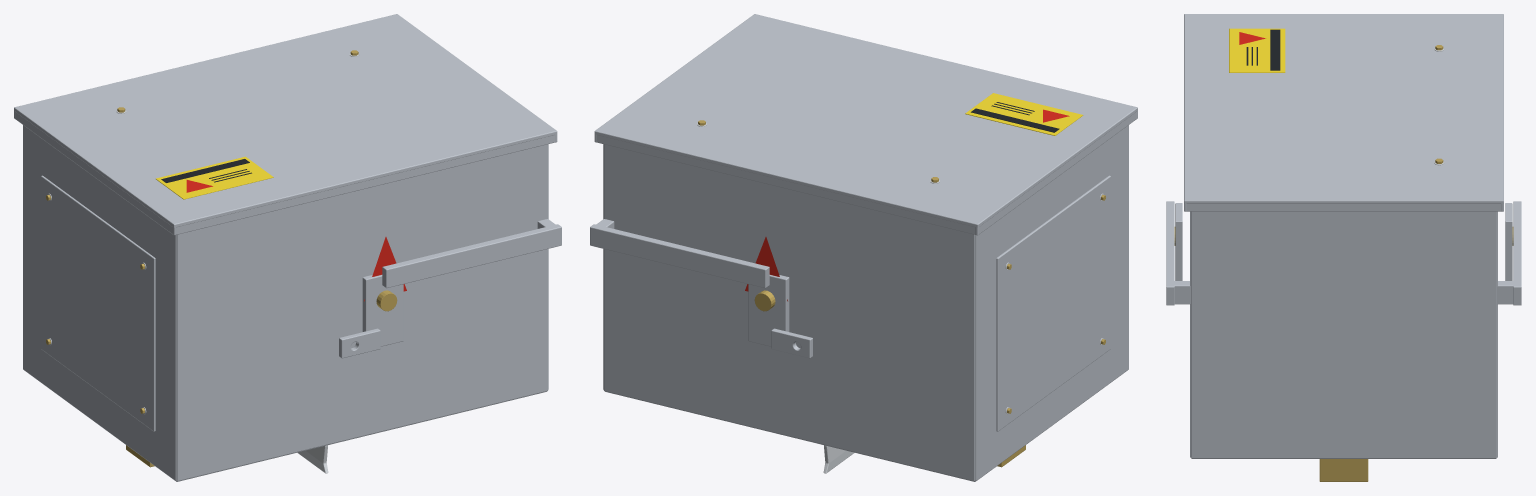
The model's file is tap-off-double-bottom.glb.
The picture shows the model from 3 angles, left to right: view 1: azimuth 30°, elevation 25°; view 2: azimuth 150°, elevation 25°; view 3: azimuth 270°, elevation 25°; orthographic projection.
Parts seen in each view (by area): view 1: Side sheet, Lid sheet, Gland plate, End sheet, Long lever, Lid long return, Pivot plate, Yellow danger label, Lid end return, Lock tab; view 2: Side sheet.001, Lid sheet, Gland plate, End sheet, Long lever.001, Lid long return.001, Pivot plate.001, Yellow danger label, Lid end return, Lock tab.001; view 3: End sheet.001, Lid sheet, Lid end return.001, Yellow danger label, Earth return.001, Long lever, Long lever.001, Pivot plate, Pivot plate.001, Black warning header, Side sheet.001, Side sheet (+2 smaller).
Part boxes in pixels (x1,y1,x2,y2): Side sheet: (176, 144, 547, 481); Lid sheet: (14, 14, 557, 227); Gland plate: (41, 175, 155, 431); End sheet: (23, 125, 176, 480); Long lever: (382, 224, 561, 288); Lid long return: (172, 135, 554, 234); Pivot plate: (362, 275, 403, 346); Yellow danger label: (156, 156, 273, 199); Lid end return: (15, 112, 176, 235); Lock tab: (339, 328, 380, 358); Side sheet.001: (604, 144, 975, 481); Lid sheet: (594, 14, 1137, 227); Gland plate: (996, 175, 1110, 431); End sheet: (975, 125, 1128, 480); Long lever.001: (590, 224, 769, 288); Lid long return.001: (597, 135, 979, 234); Pivot plate.001: (748, 275, 789, 346); Yellow danger label: (965, 93, 1083, 135); Lid end return: (975, 112, 1136, 235); Lock tab.001: (771, 328, 812, 358); End sheet.001: (1191, 211, 1496, 458); Lid sheet: (1184, 14, 1503, 203); Lid end return.001: (1184, 204, 1503, 211); Yellow danger label: (1229, 28, 1285, 72); Earth return.001: (1319, 459, 1368, 481); Long lever: (1166, 201, 1174, 305); Long lever.001: (1513, 201, 1521, 305); Pivot plate: (1175, 203, 1182, 280); Pivot plate.001: (1505, 203, 1512, 280); Black warning header: (1270, 29, 1280, 70); Side sheet.001: (1496, 211, 1497, 457); Side sheet: (1190, 211, 1191, 457).
Bounding box in the file's own units: 0.362 × 0.2958 × 0.291.
